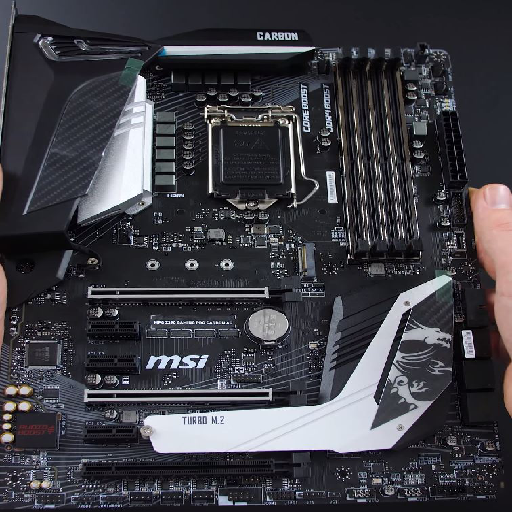CPU: (205, 103, 307, 211)
GPU: (83, 377, 307, 410), (83, 272, 302, 303), (77, 451, 311, 480)
MOTHERBOARD: (9, 26, 509, 504)
RAM: (329, 49, 423, 261)
SSD: (295, 244, 318, 277)
